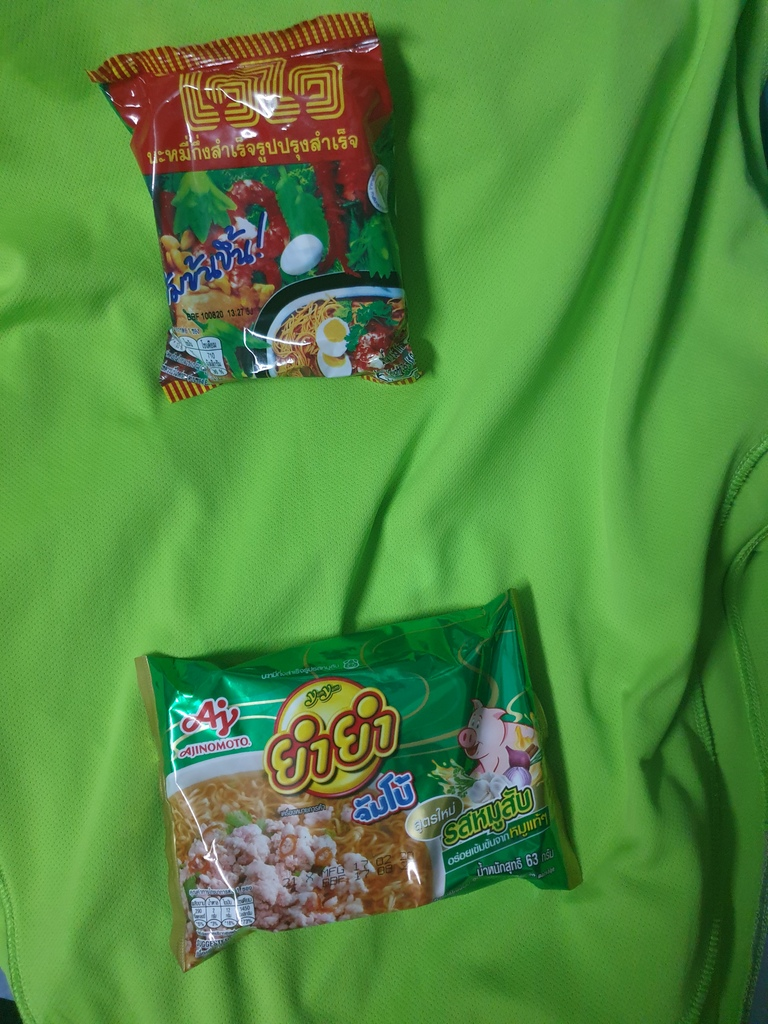waiwai: (129, 45, 465, 381)
yumyum: (127, 613, 596, 920)
